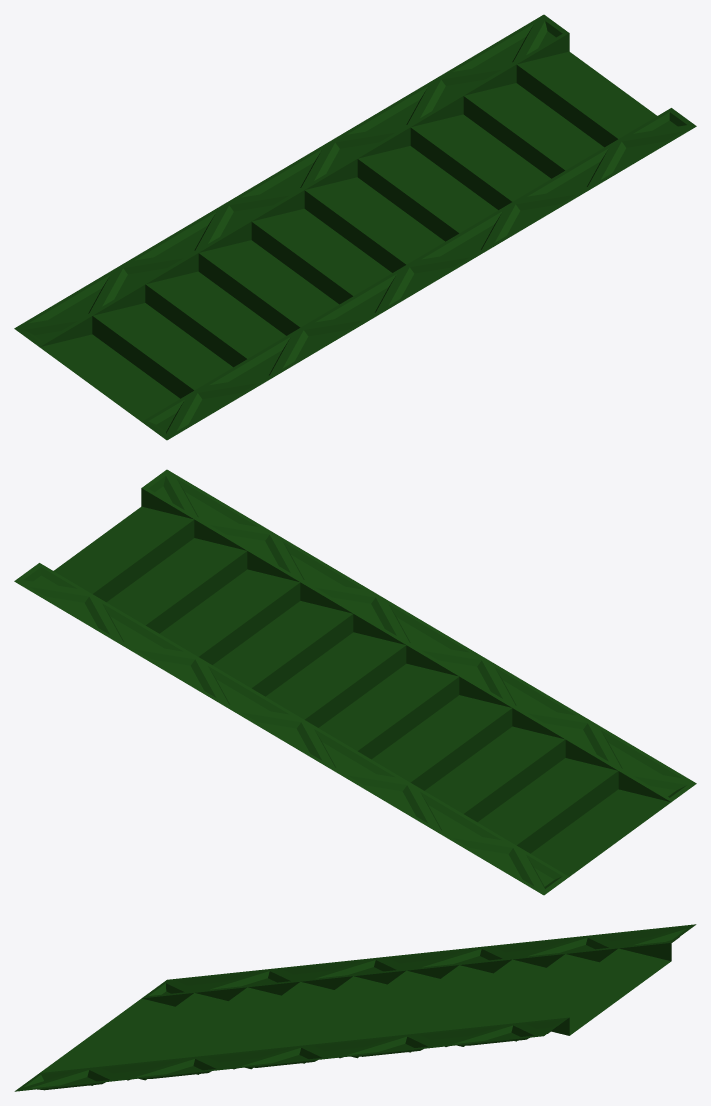
File: Room_Floor_Stairs_A.FBX
3 renders of one model, top to bottom at view 1: azimuth 30°, elevation 25°; view 2: azimuth 150°, elevation 25°; view 3: azimuth 330°, elevation 25°, orthographic.
Parts seen in each view (by area): view 1: Room_Floor_Stairs_A; view 2: Room_Floor_Stairs_A; view 3: Room_Floor_Stairs_A.
Part boxes in pixels (x1,y1,x2,y2): Room_Floor_Stairs_A: [14, 14, 696, 440]; Room_Floor_Stairs_A: [14, 469, 696, 895]; Room_Floor_Stairs_A: [14, 924, 696, 1091].
Size of the model in its own units: 600 by 202 by 300.
